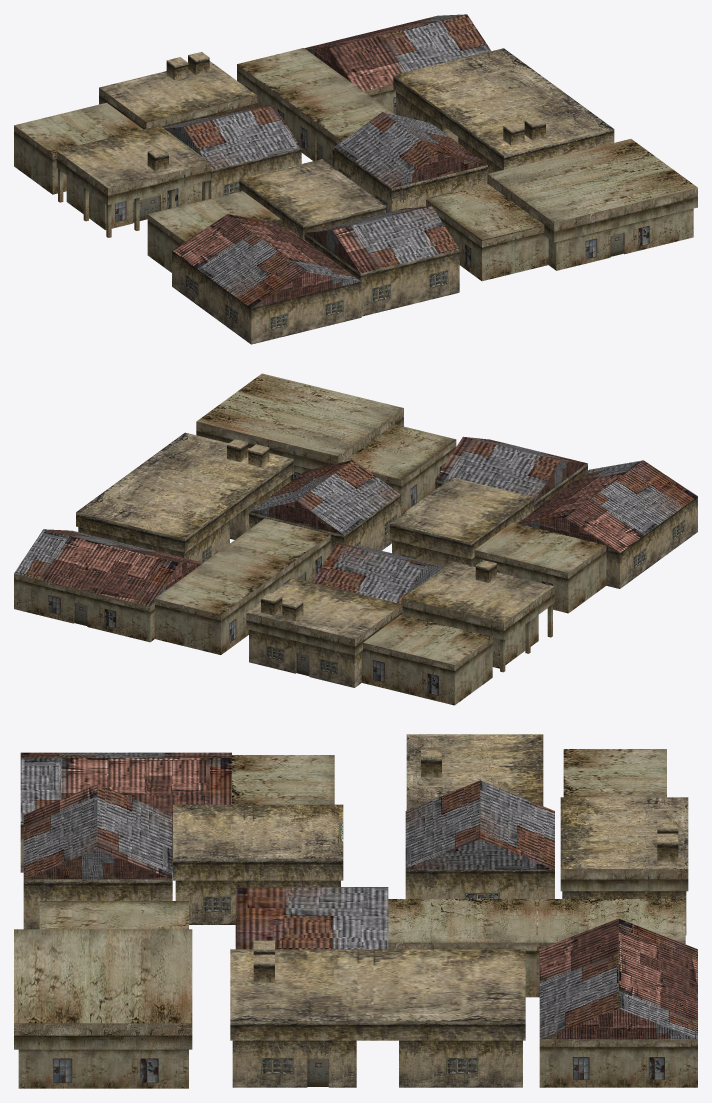
Rendered from MogBlk05.glb.
3 renders of one model, top to bottom at view 1: azimuth 30°, elevation 25°; view 2: azimuth 150°, elevation 25°; view 3: azimuth 270°, elevation 25°, orthographic. The views are drawn at different scales.
Visible parts, largest first — view 1: _MogBlk05; view 2: _MogBlk05; view 3: _MogBlk05.
Boxes of the visible parts, x1,y1,x2,y2 form: _MogBlk05: (14, 14, 697, 344); _MogBlk05: (14, 373, 697, 705); _MogBlk05: (14, 734, 697, 1088).
Size of the model in its own units: 64.41 by 9.19 by 64.26.
2 materials, 2 textured.
